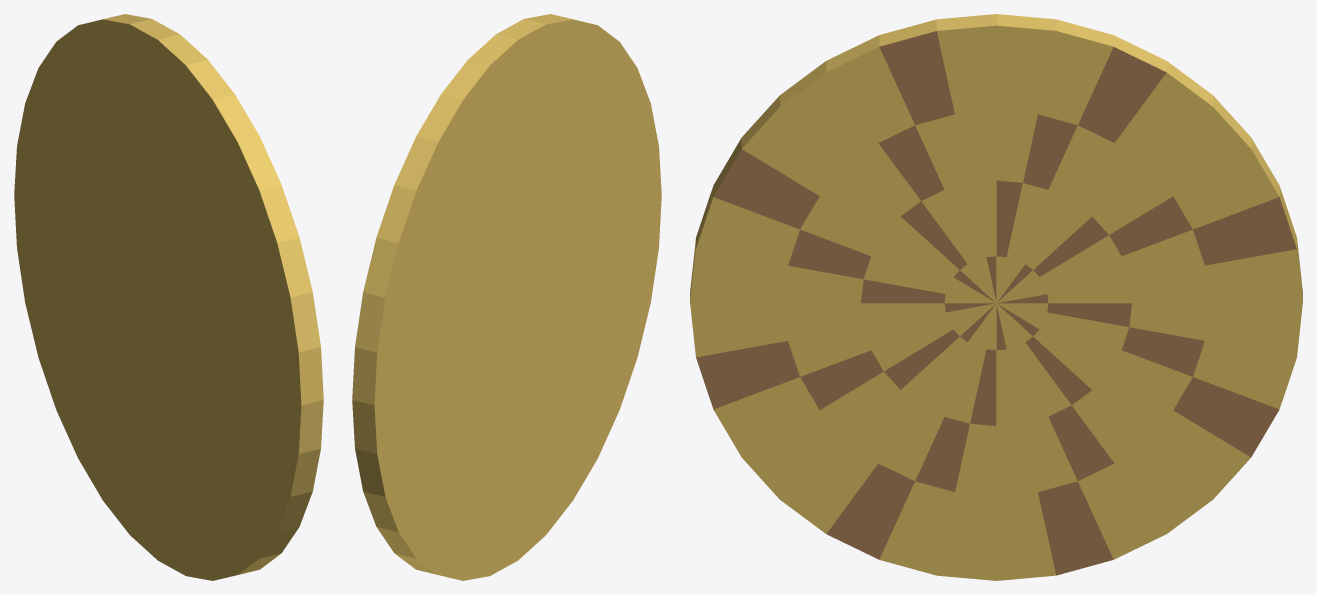
Rendered from TumbleWeed.glb.
The picture shows the model from 3 angles, left to right: view 1: azimuth 30°, elevation 25°; view 2: azimuth 150°, elevation 25°; view 3: azimuth 270°, elevation 25°; orthographic projection. The views are drawn at different scales.
Visible parts, largest first — view 1: Cylander; view 2: Cylander; view 3: Cylander.
Boxes of the visible parts, x1,y1,x2,y2 form: Cylander: (14, 14, 323, 580); Cylander: (352, 14, 661, 580); Cylander: (690, 14, 1302, 580).
Bounding box in the file's own units: 0.1196 × 2.67 × 2.67.
